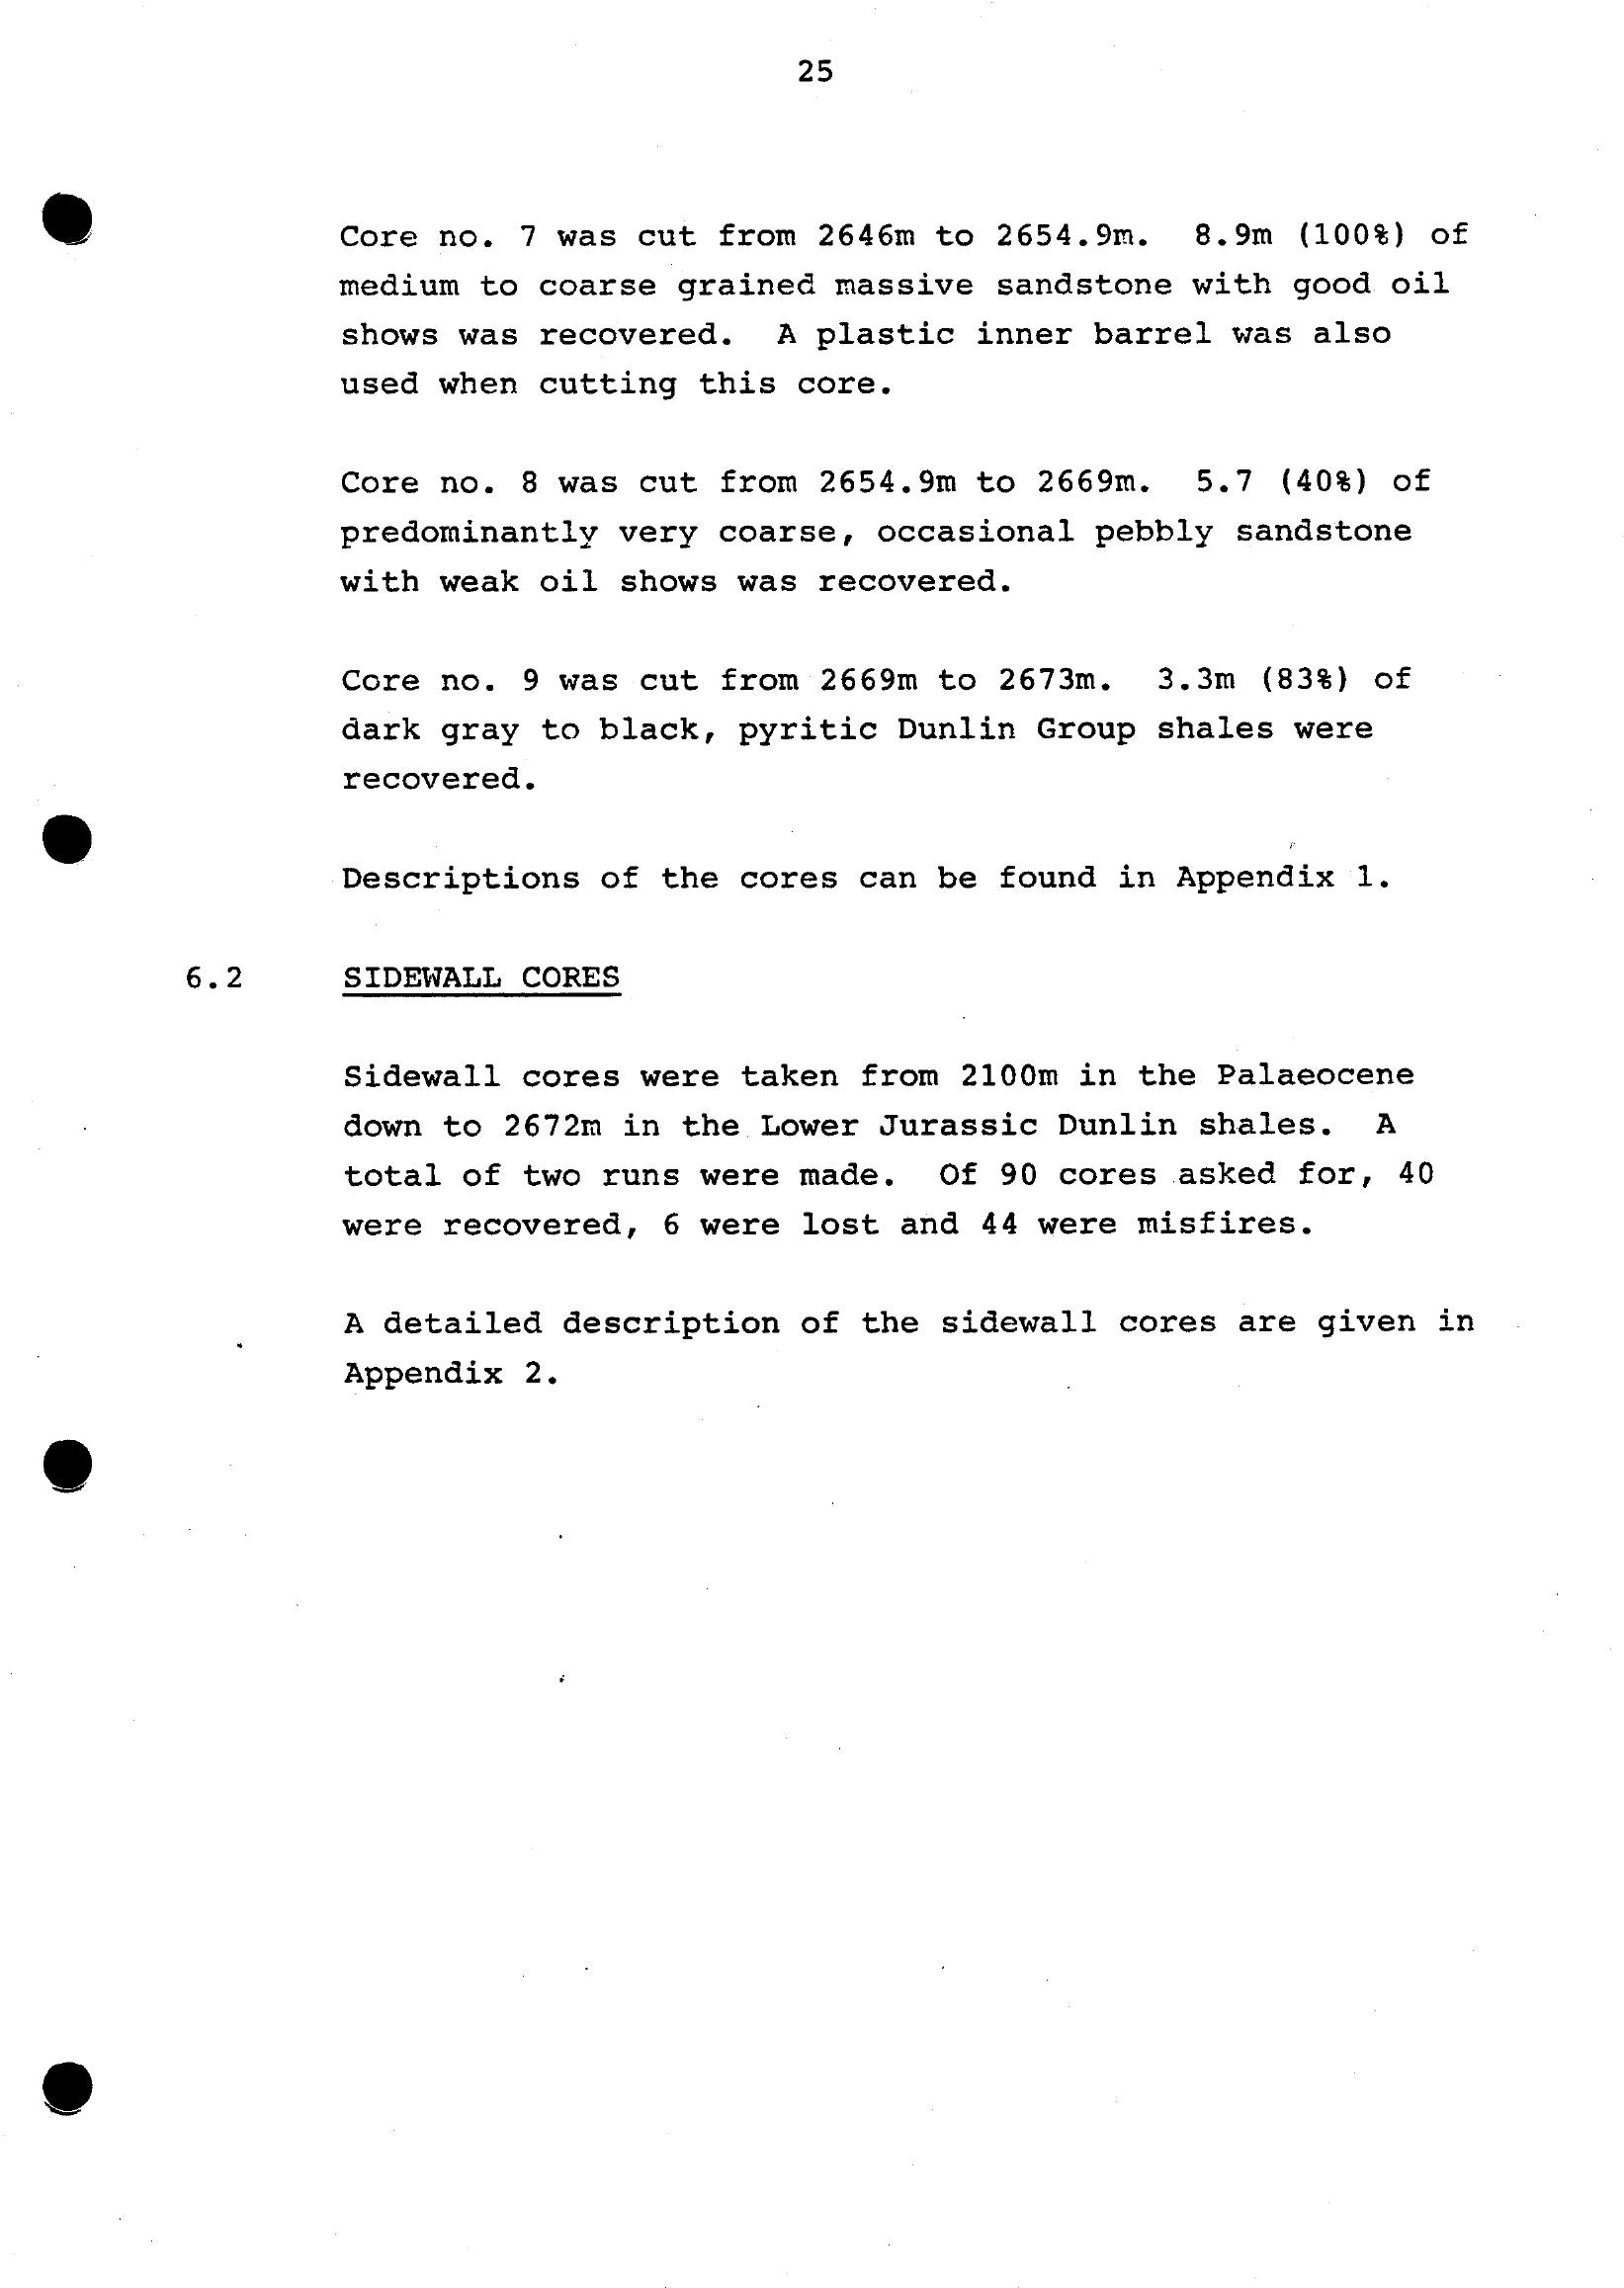text: (292, 160, 1533, 1436)
